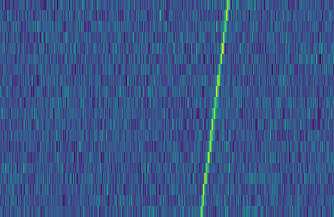signal: (197, 0, 234, 217)
